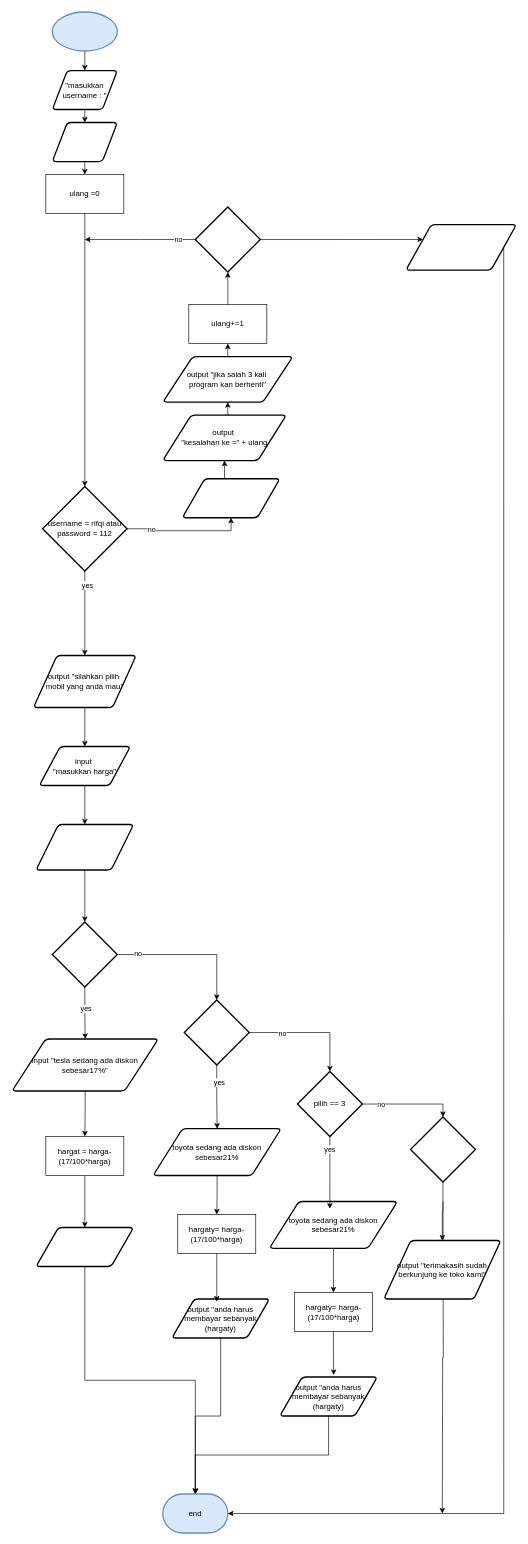
This 528x1544 diagram has some shape labels left out. The centre of each missing label's shape, as x and y in pixels:
"masukkan password : ": the point at 84,142
input 1 = tesla 2 = toyota 3 = hyundai 4.= keluar: the point at 84,847
mulai: the point at 84,31
output "anda harus membayar sebanyak (hargat): the point at 84,1247
output "username atau paasord salah": the point at 230,498
output"anda melewati batas yang di tentukan: the point at 461,247
pilih == 1: the point at 84,954
pilih == 2: the point at 216,1032
pilih == keluar: the point at 443,1149
ulang >=3: the point at 227,239
